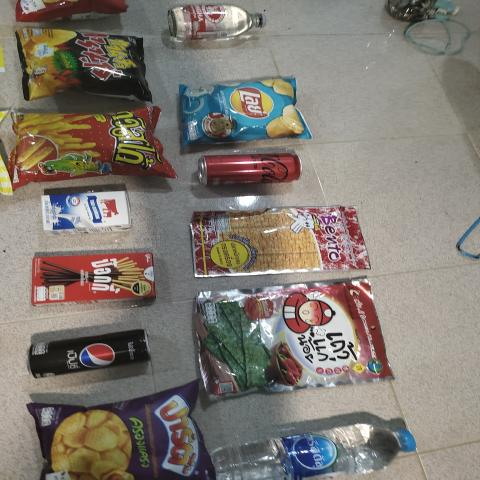bento_red: (190, 211, 357, 268)
coke_red: (195, 154, 301, 186)
crystal: (215, 396, 437, 480)
karamujo: (21, 30, 157, 104)
lay_blue: (184, 85, 304, 146)
party_purple: (44, 406, 203, 480)
pepsi_black: (29, 336, 150, 372)
pokki: (34, 252, 156, 304)
singha_soda: (162, 5, 268, 48)
taokaenoi: (201, 291, 388, 381)
thai_denmark: (33, 192, 134, 242)
twisco: (20, 113, 172, 181)
